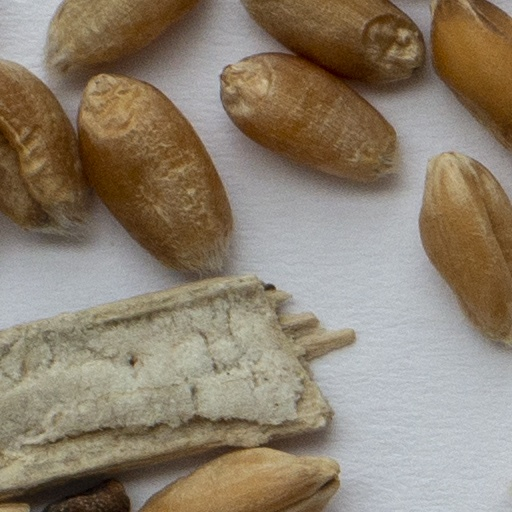Peel-poly: (0, 276, 352, 490)
